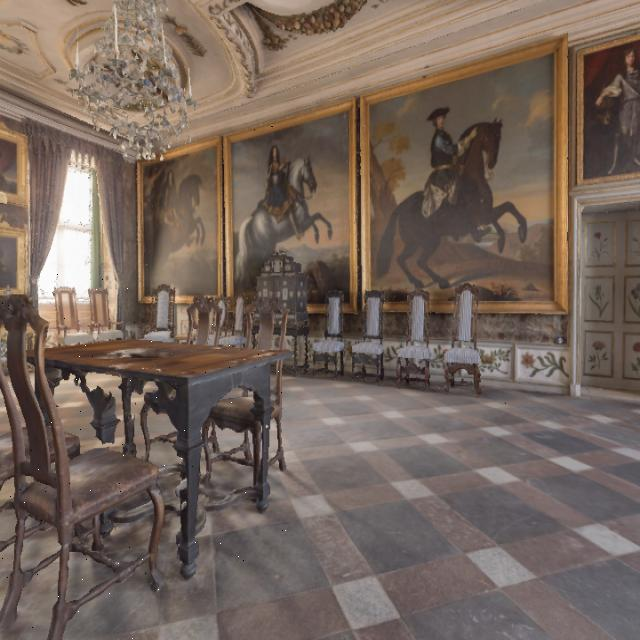chair: (0, 273, 172, 640), (0, 260, 68, 605)
table: (32, 314, 301, 565)
